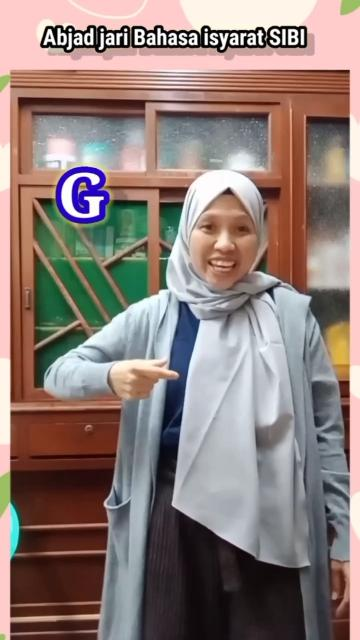G: (109, 356, 186, 406)
